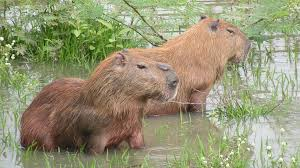capivara: (19, 52, 180, 154), (125, 15, 252, 115)
